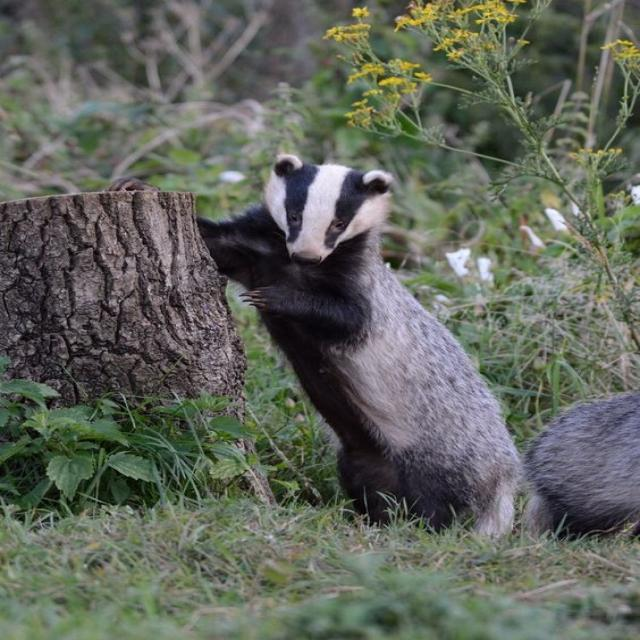Skunk: (175, 132, 574, 560)
